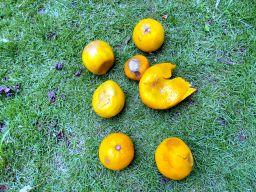orange: (138, 62, 197, 111), (154, 136, 194, 181), (98, 131, 135, 172), (92, 79, 126, 119), (82, 40, 115, 75), (132, 18, 165, 53), (124, 54, 150, 81)
